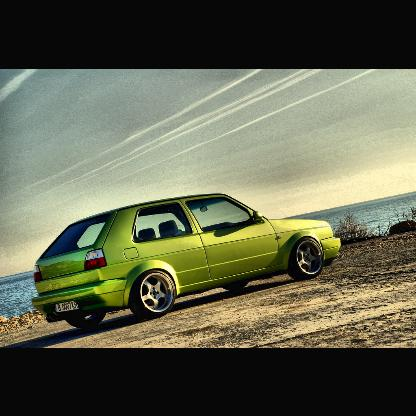Volkswagen Golf Hatchback 1991: (30, 192, 344, 327)
